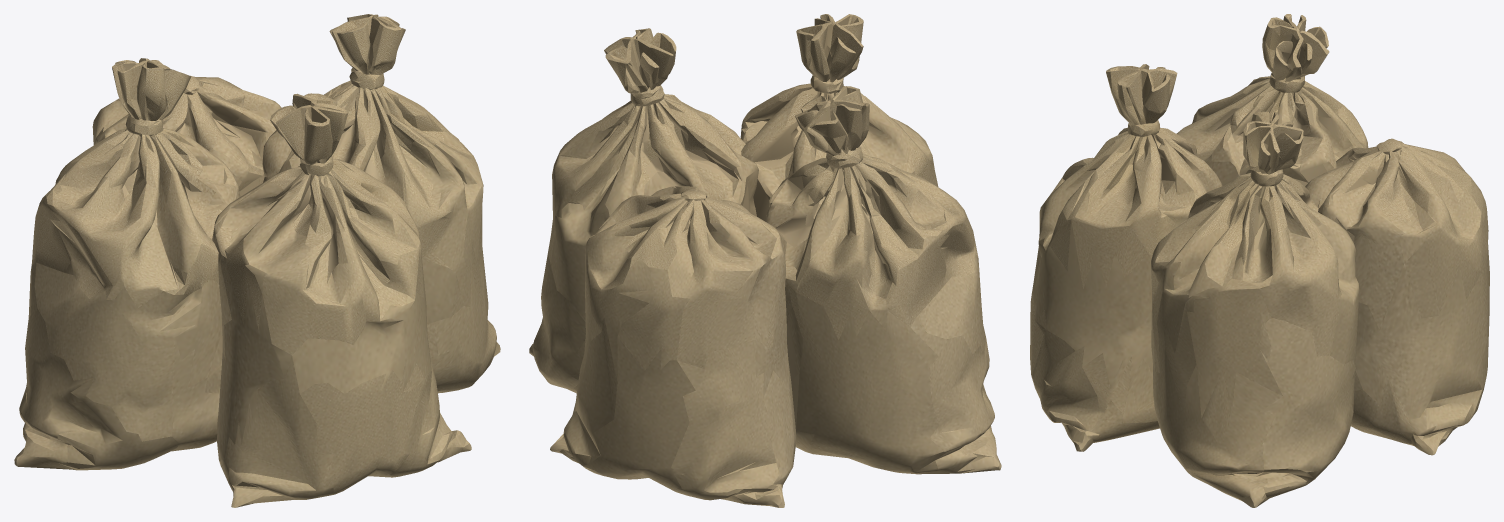
3 views of the same model, side by side, from view 1: azimuth 30°, elevation 25°; view 2: azimuth 150°, elevation 25°; view 3: azimuth 270°, elevation 25° (orthographic). The views are drawn at different scales.
Size of the model in its own units: 1.9 by 1.36 by 1.69.
Materials: 1 (1 with a texture image).
